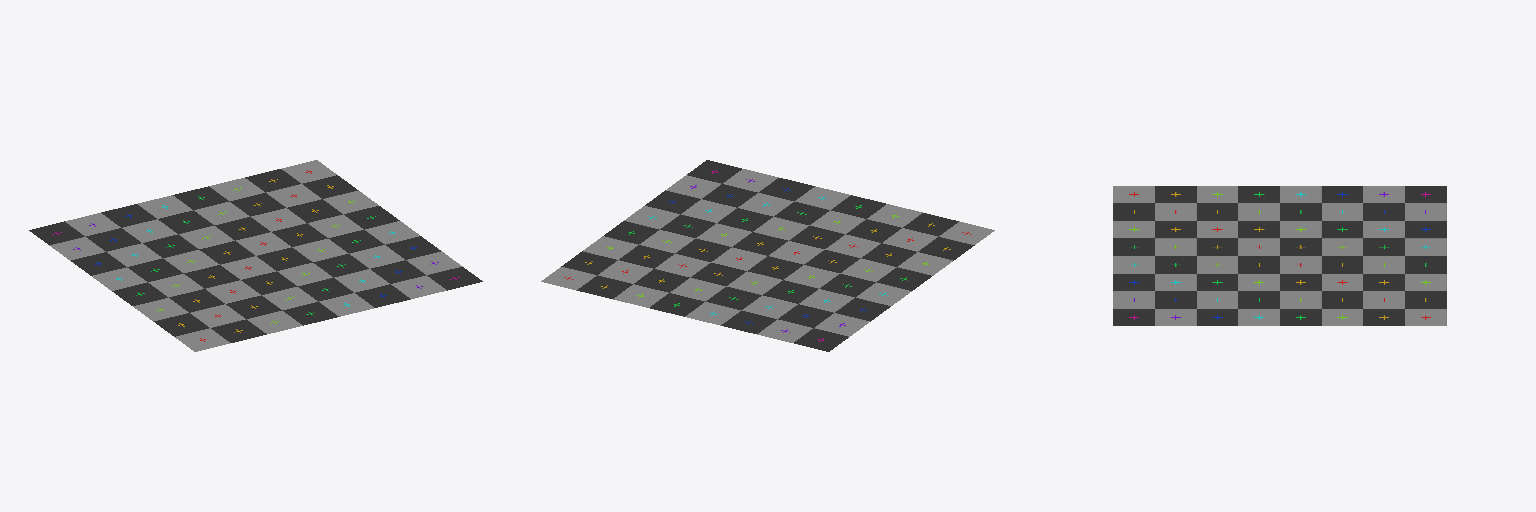
The picture shows the model from 3 angles: view 1: azimuth 30°, elevation 25°; view 2: azimuth 150°, elevation 25°; view 3: azimuth 270°, elevation 25°; orthographic projection.
Visible parts, largest first — view 1: Plane; view 2: Plane; view 3: Plane.
Part boxes in pixels (x1,y1,x2,y2): Plane: (29, 160, 482, 351); Plane: (541, 160, 994, 351); Plane: (1113, 186, 1446, 325).
Bounding box in the file's own units: 2 × 0 × 2.
1 materials, 1 textured.